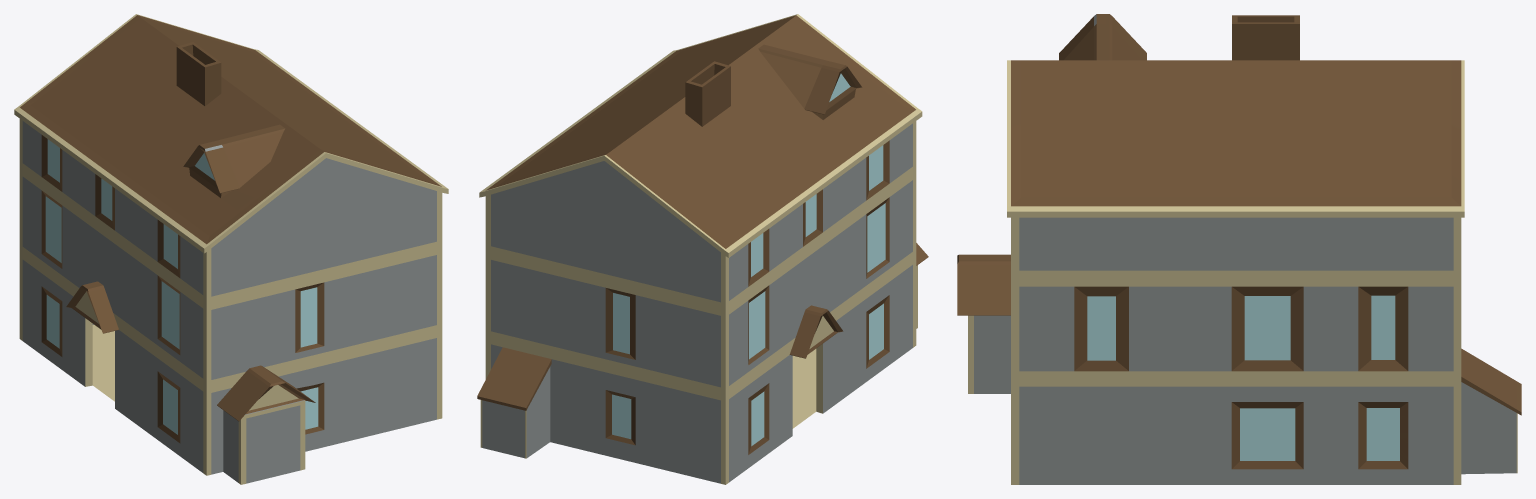
File: EvelynBuildingV2.fbx
The picture shows the model from 3 angles, left to right: view 1: azimuth 30°, elevation 25°; view 2: azimuth 150°, elevation 25°; view 3: azimuth 270°, elevation 25°; orthographic projection. The views are drawn at different scales.
Visible parts, largest first — view 1: Evelyn Building; view 2: Evelyn Building; view 3: Evelyn Building.
Part boxes in pixels (left/top/right/bottom): Evelyn Building: left=14, top=14, right=448, bottom=484; Evelyn Building: left=477, top=14, right=928, bottom=484; Evelyn Building: left=957, top=14, right=1521, bottom=484.
Bounding box in the file's own units: 2758 × 1742 × 2077.
